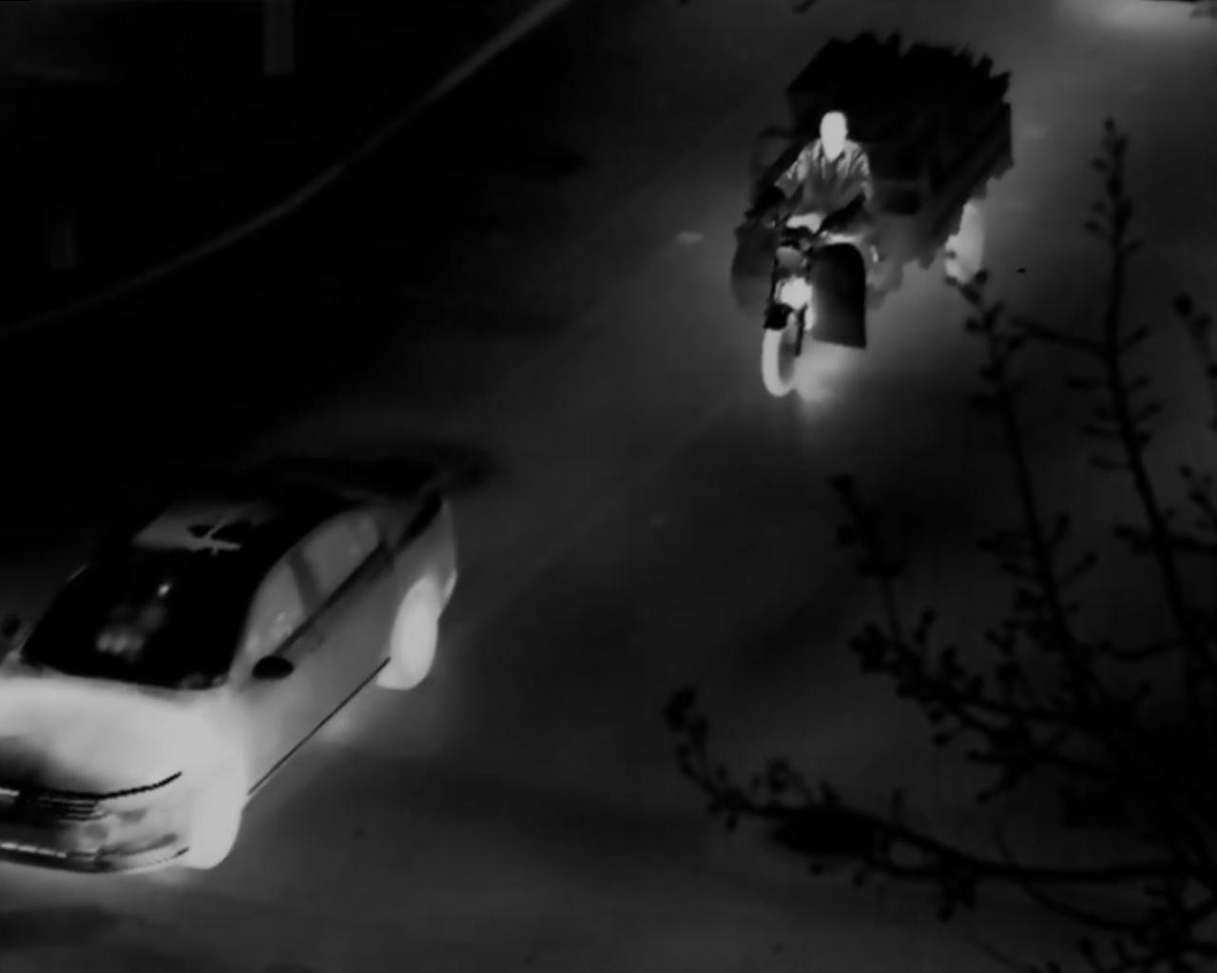person: (776, 109, 877, 277)
